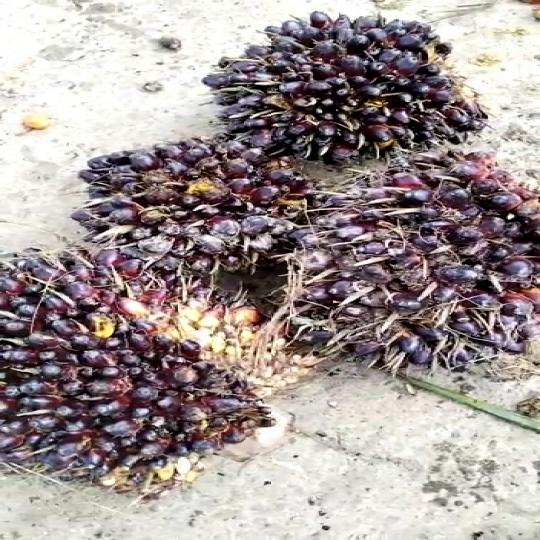kurang masak: (0, 251, 313, 488), (262, 150, 540, 367), (191, 11, 510, 163), (50, 127, 326, 287)
